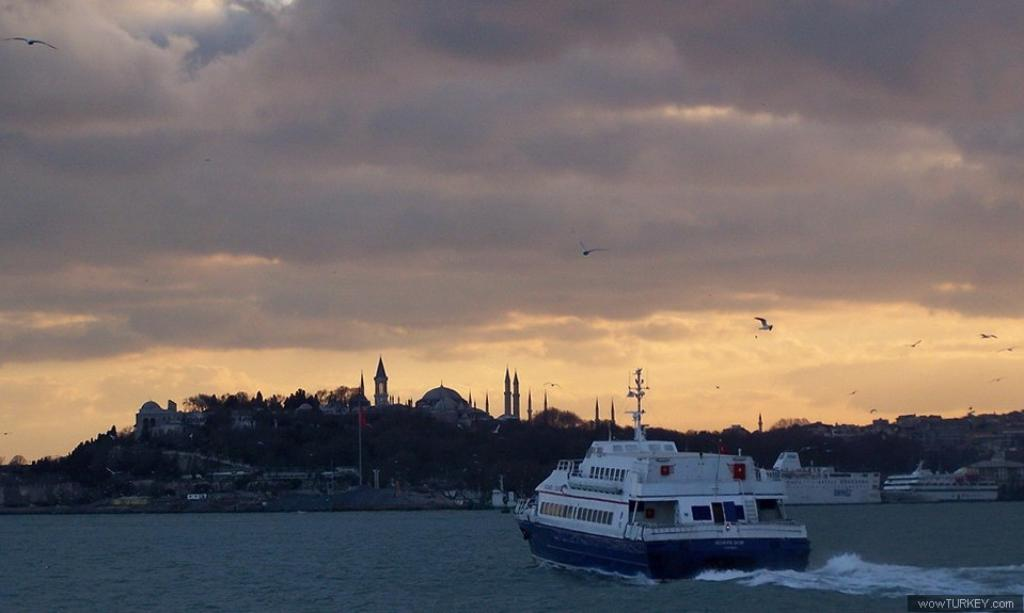PassengerShip: (508, 358, 822, 588), (880, 458, 1002, 508)
